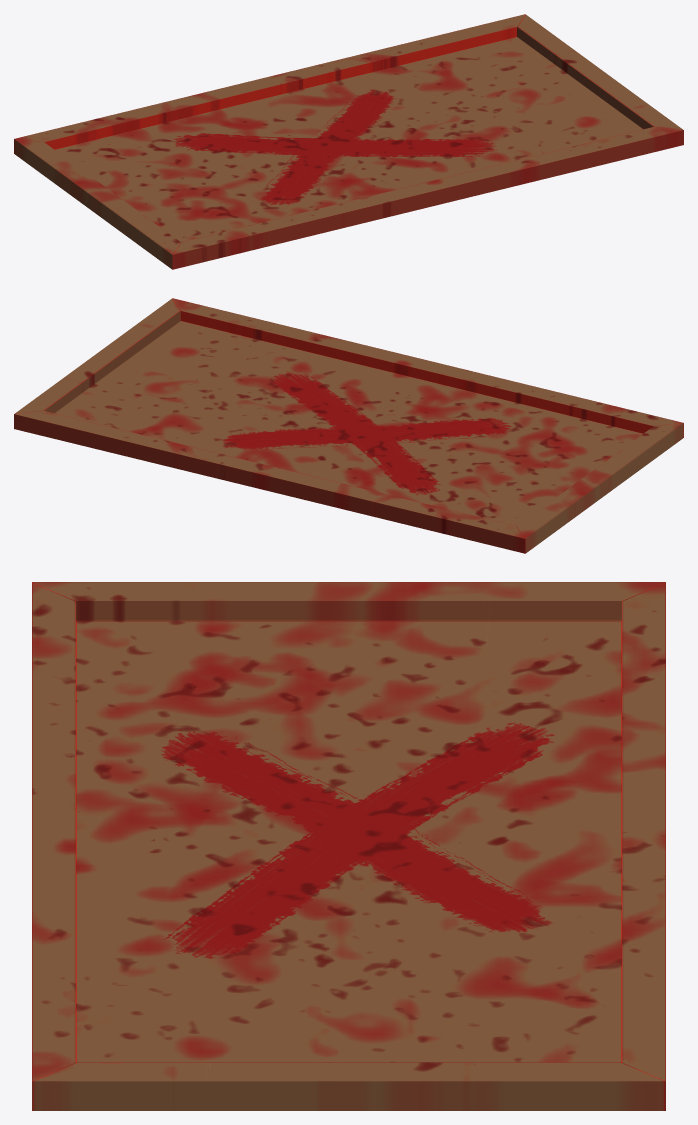
The model's file is Chest_Spot.fbx.
The picture shows the model from 3 angles, top to bottom: view 1: azimuth 30°, elevation 25°; view 2: azimuth 150°, elevation 25°; view 3: azimuth 270°, elevation 25°; orthographic projection. The views are drawn at different scales.
Visible parts, largest first — view 1: pCube1; view 2: pCube1; view 3: pCube1.
Part boxes in pixels (x1,y1,x2,y2): pCube1: (14, 14, 683, 269); pCube1: (14, 298, 683, 553); pCube1: (32, 582, 665, 1110).
Bounding box in the file's own units: 108 × 3 × 58.08.
Materials: 1 (1 with a texture image).
